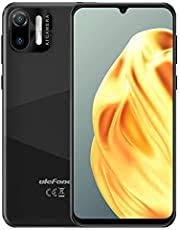Smartphone: (71, 7, 174, 227), (4, 4, 75, 230)
